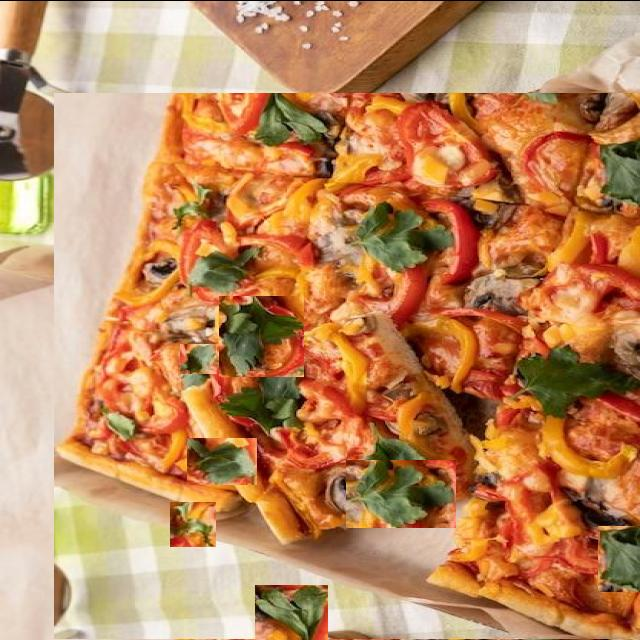basil: (505, 313, 640, 388), (346, 459, 456, 527), (219, 295, 304, 376), (362, 233, 436, 311), (255, 584, 328, 640), (187, 437, 257, 484), (598, 525, 640, 591), (170, 501, 216, 546), (94, 290, 138, 328), (180, 343, 217, 373)
pizza: (54, 92, 640, 638)
